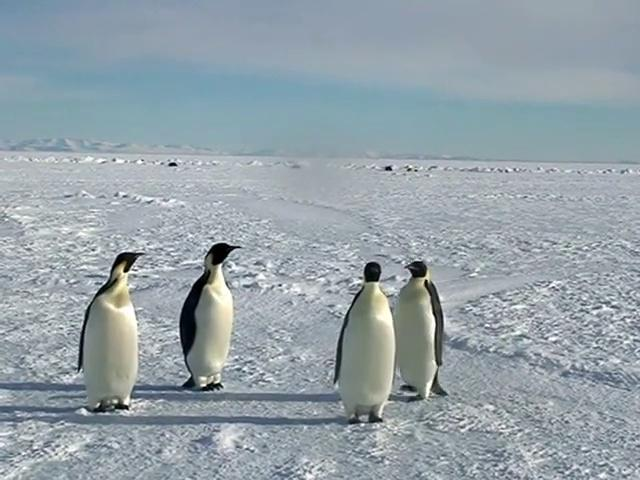animal: (335, 262, 396, 424)
